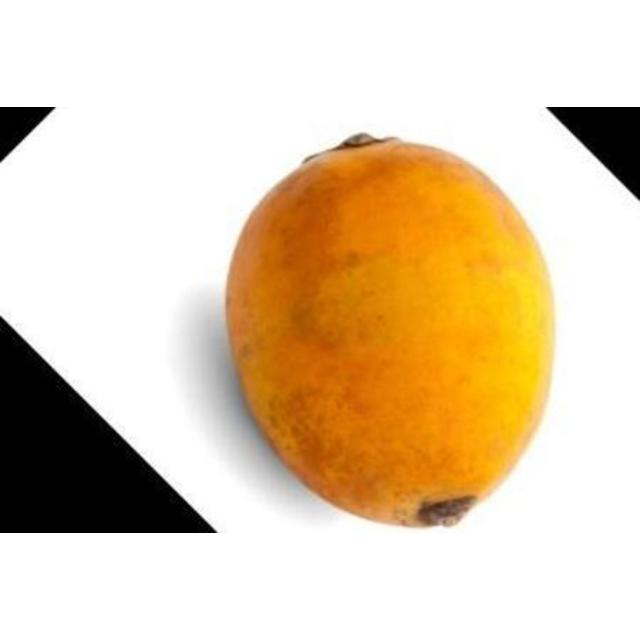good: (222, 134, 559, 529)
